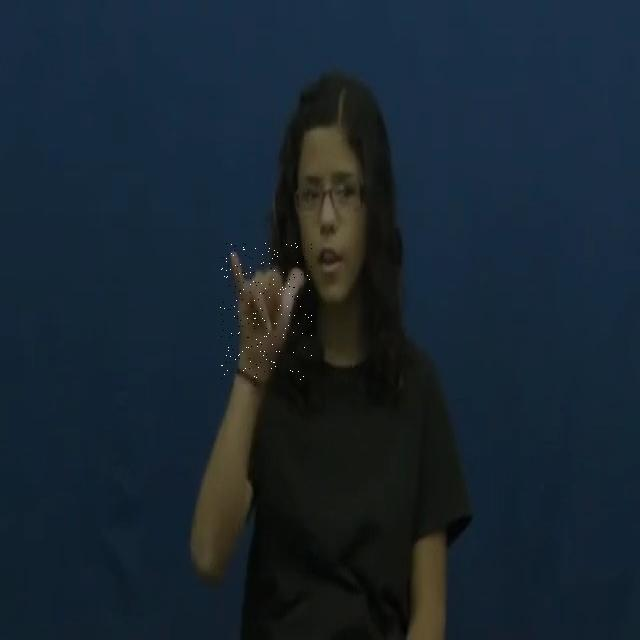yoghurt: (220, 242, 312, 380)
